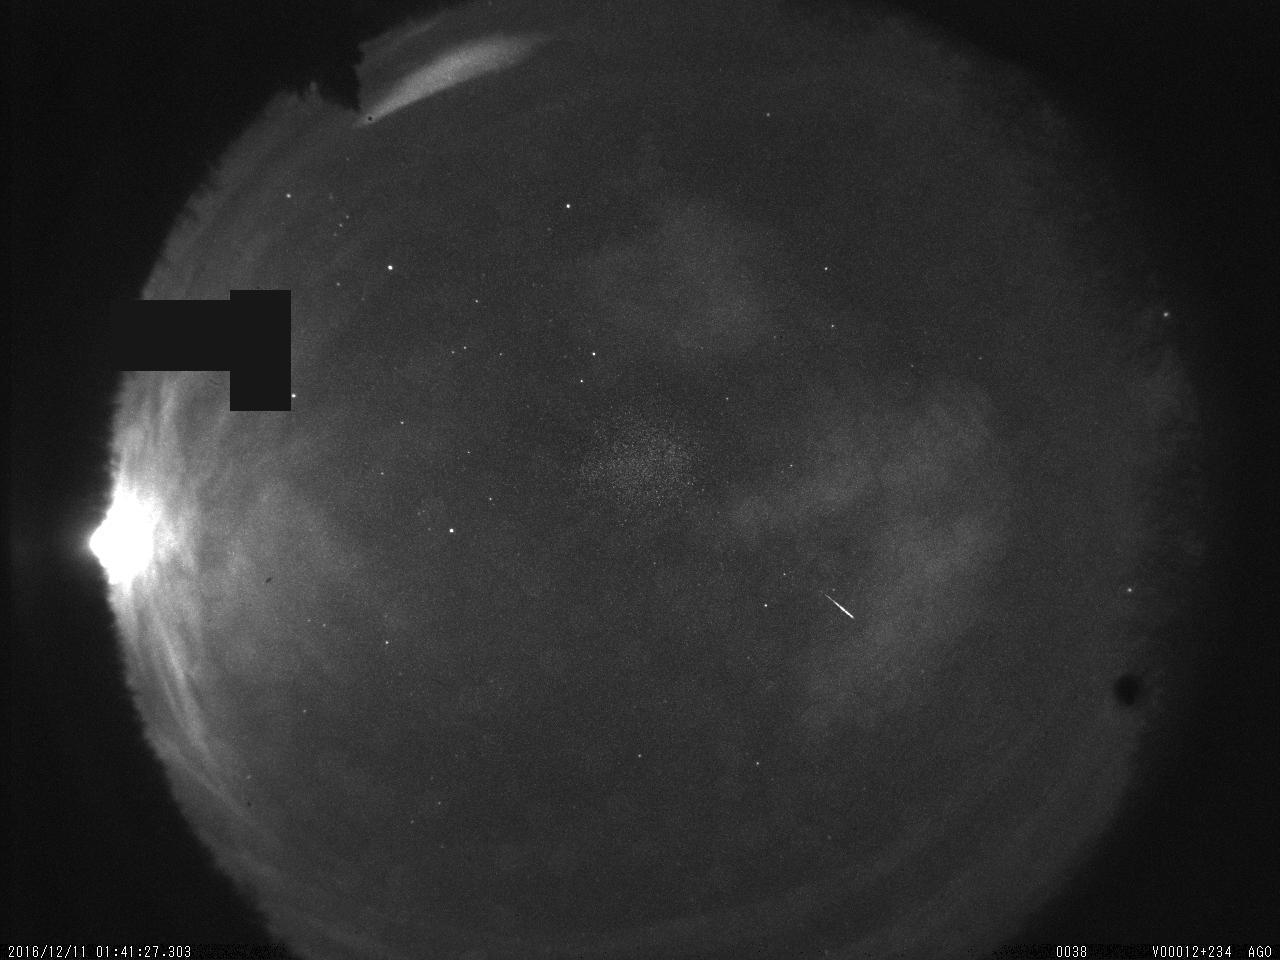meteor: (794, 568, 877, 639)
